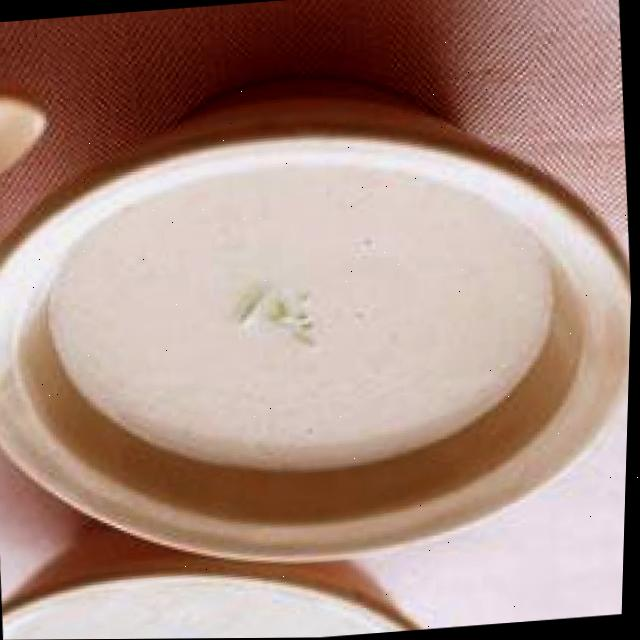汤锅炖物: (0, 61, 638, 606)
